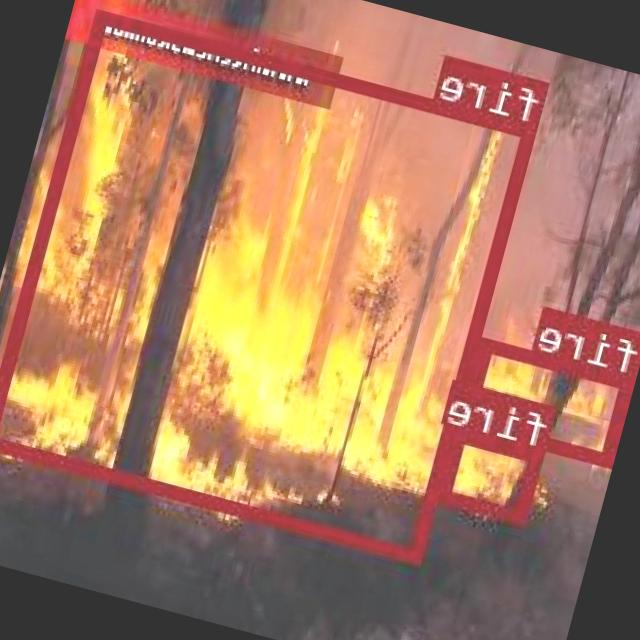fire: (0, 8, 539, 561), (460, 334, 636, 466), (440, 426, 546, 522)
